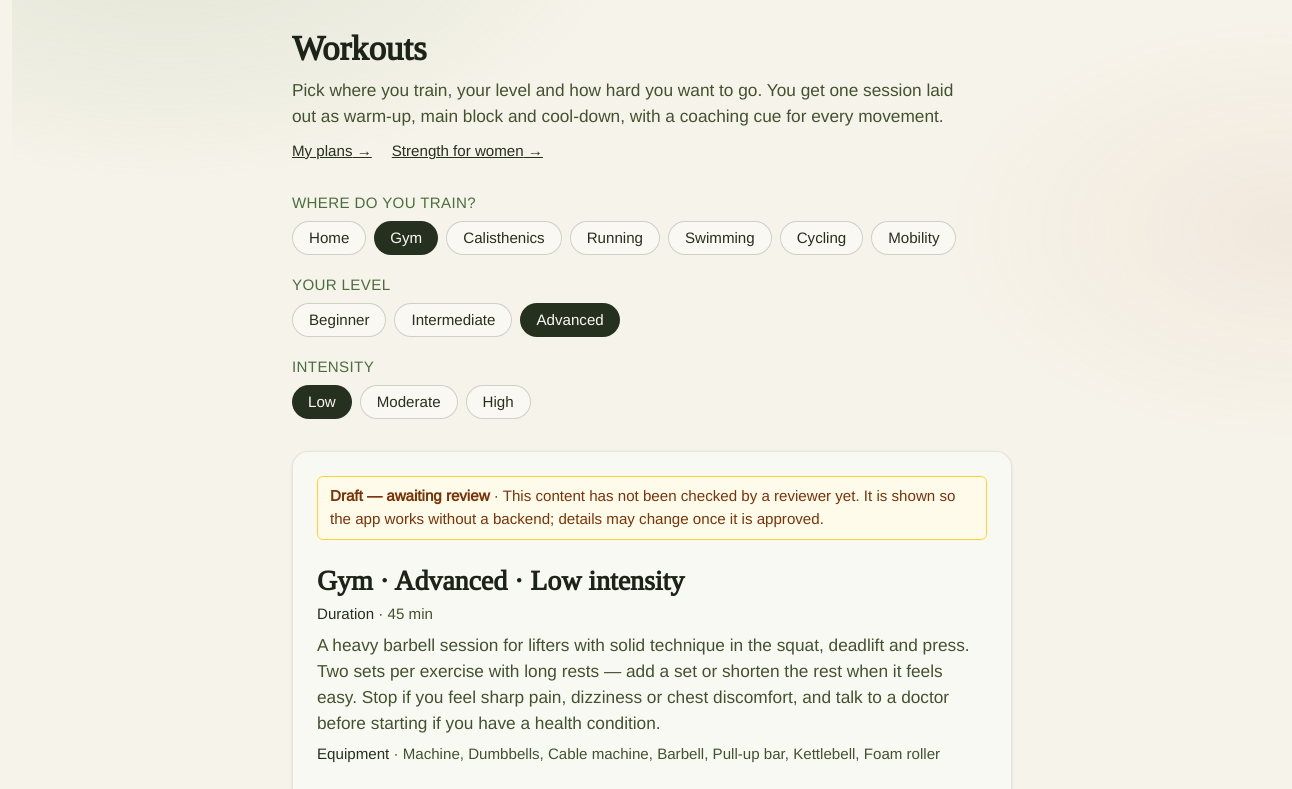
Scenario: <WorkoutsPage> with the bundled source › reflects a type change in the URL and keeps the other two keys
Click the radio button labelled "Running" at point(615, 238), box top-left (570, 221), bottom-right (660, 255)
(page scrolled)
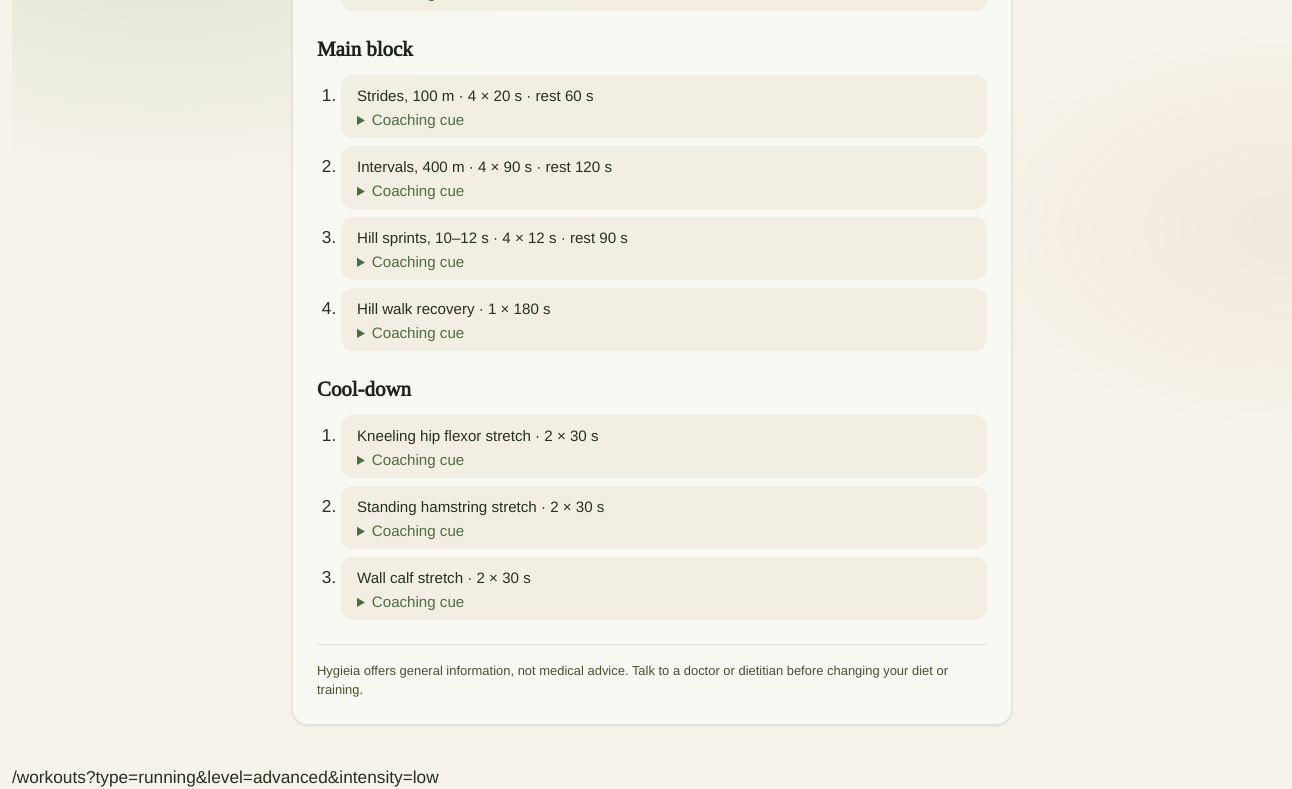
Expected: the text with test id "location" reads "/workouts?type=running&level=advanced&intensity=low", top-left (12, 766), bottom-right (439, 786)
